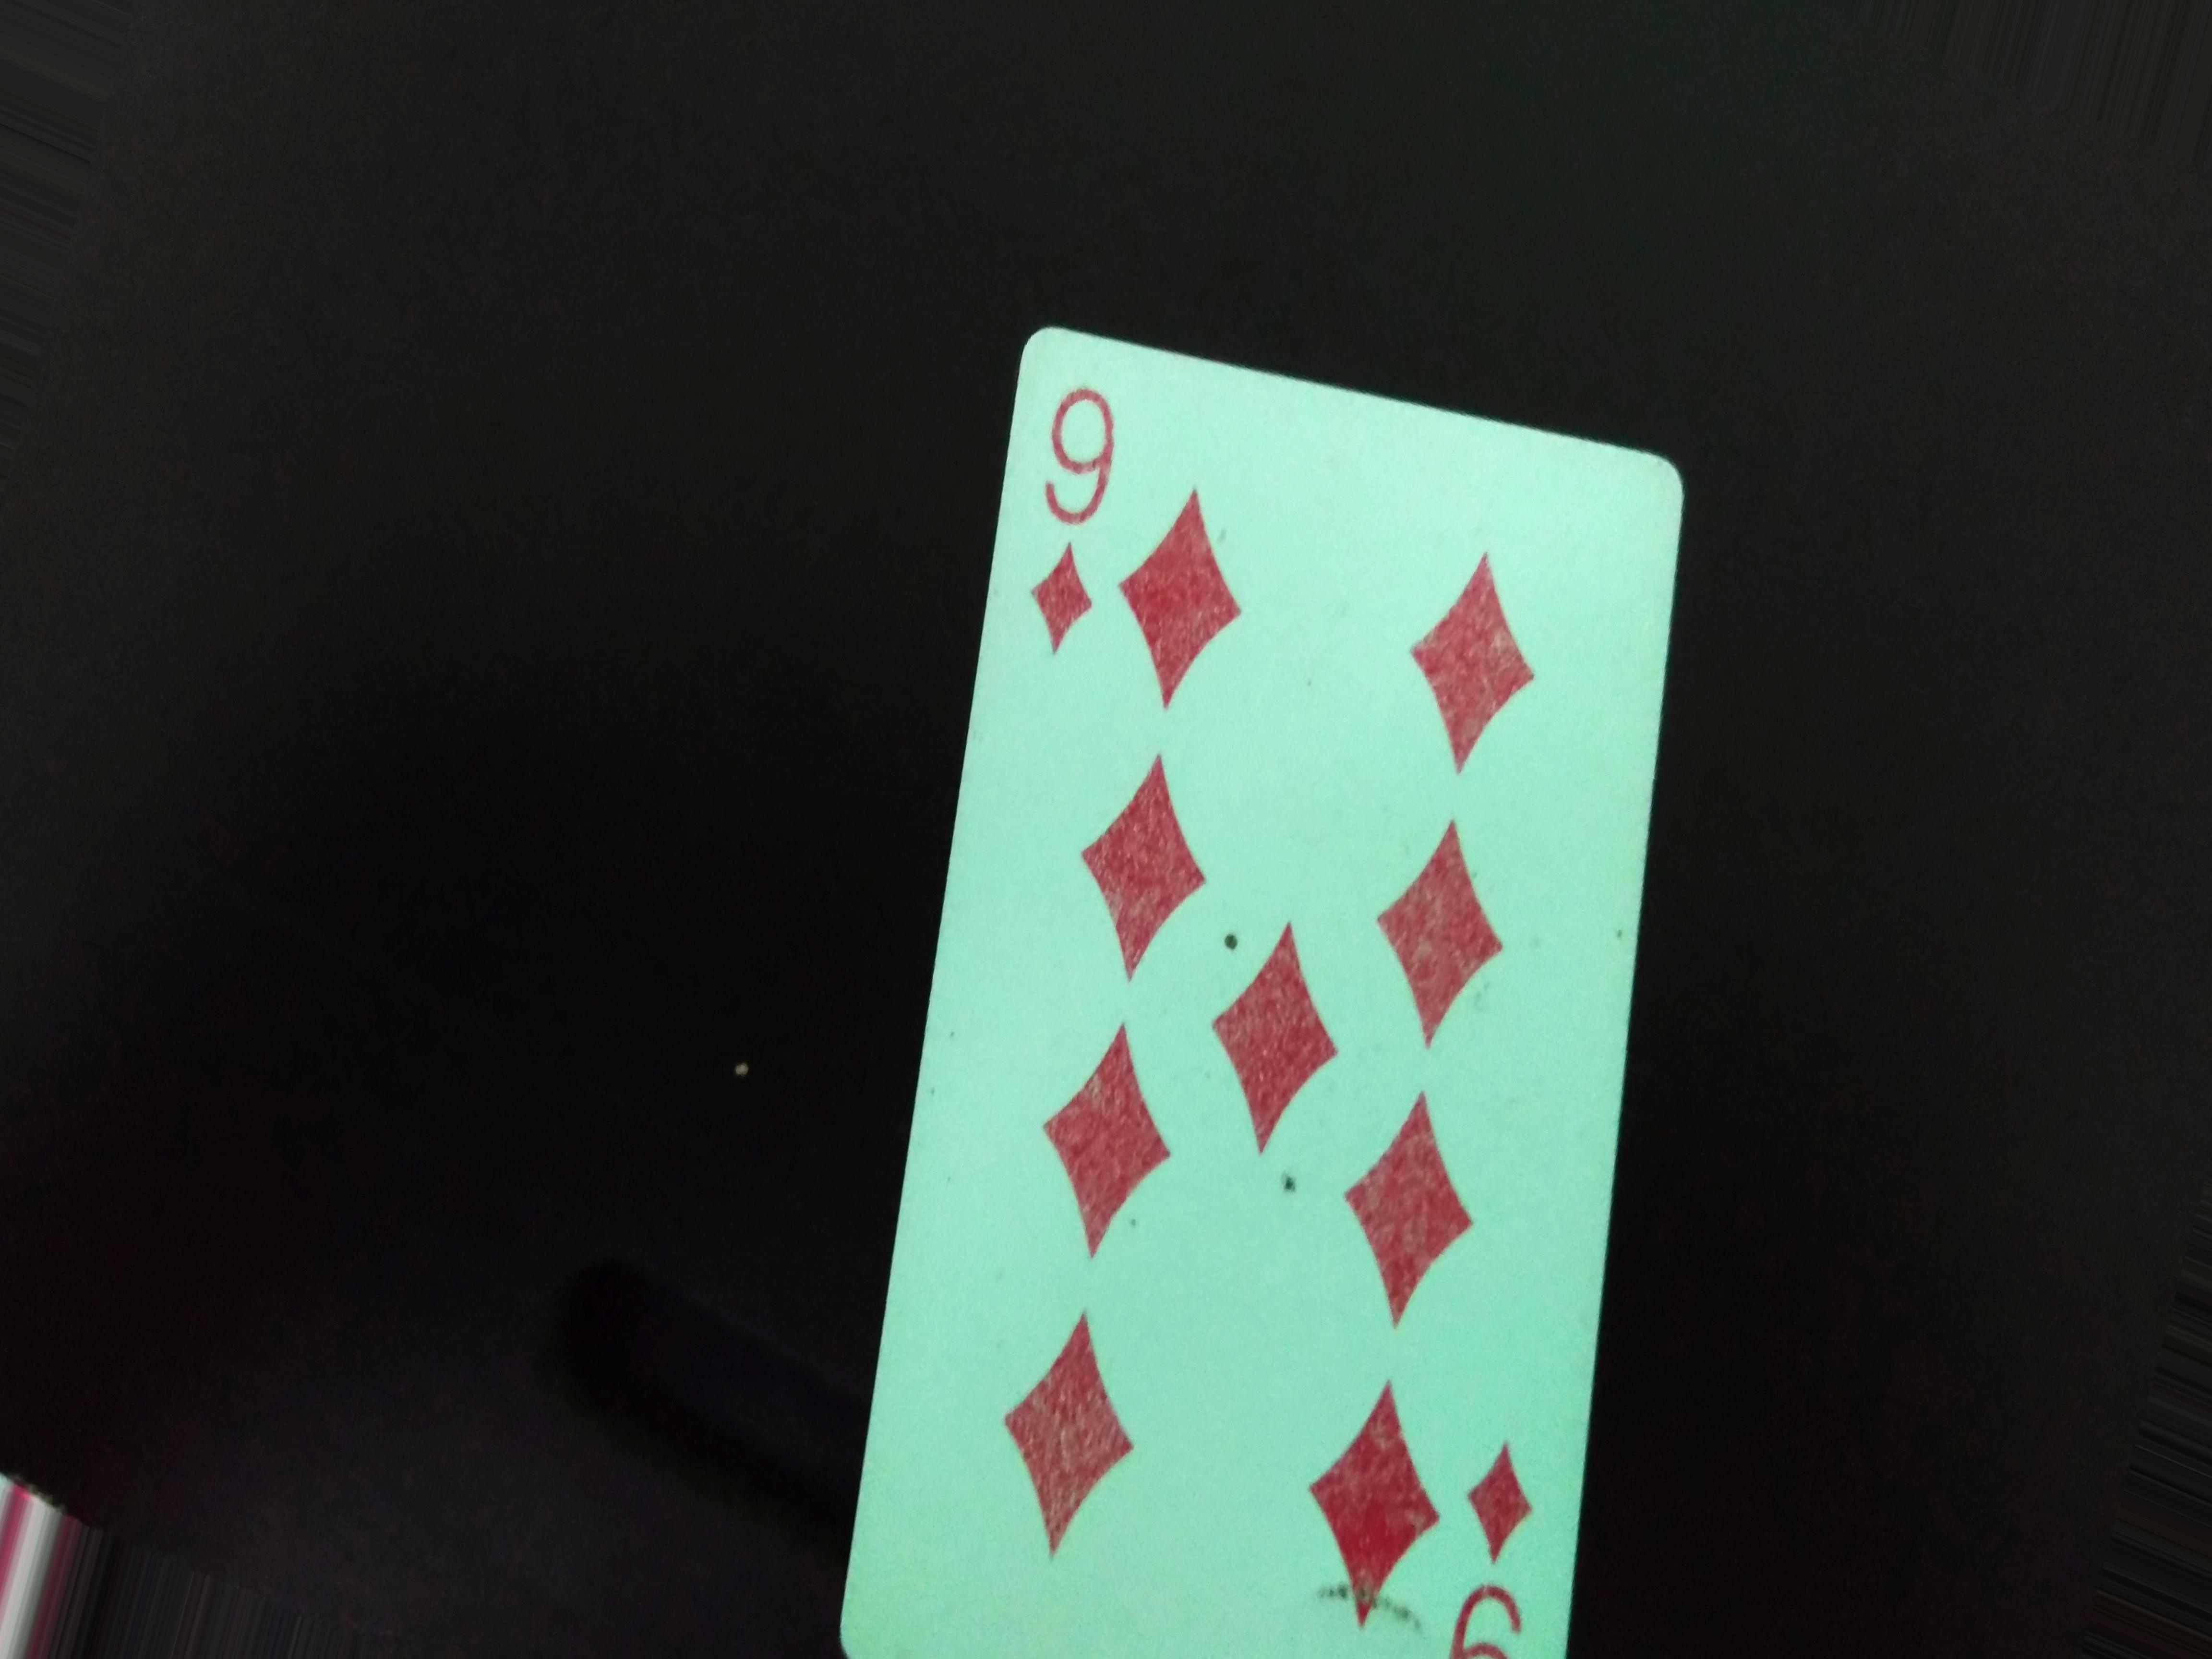9D: (1014, 357, 1130, 680)
